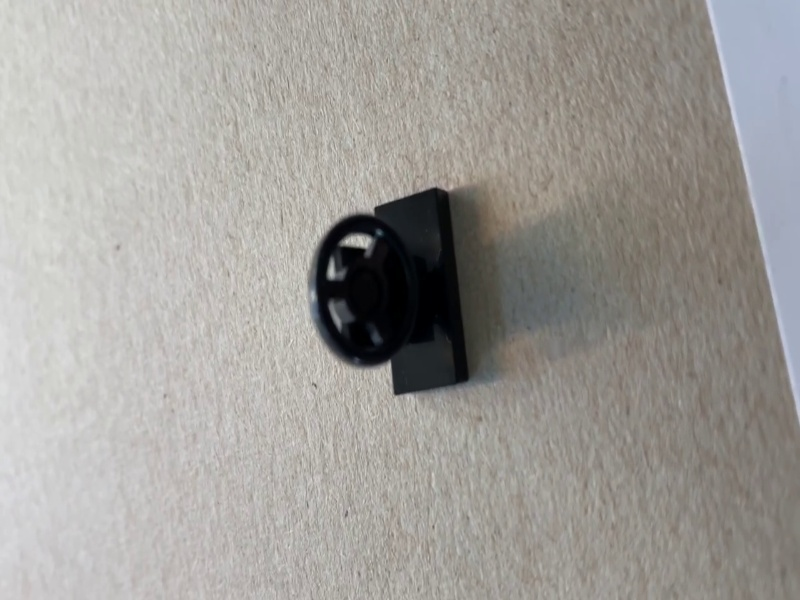steering wheel: (305, 185, 471, 390)
